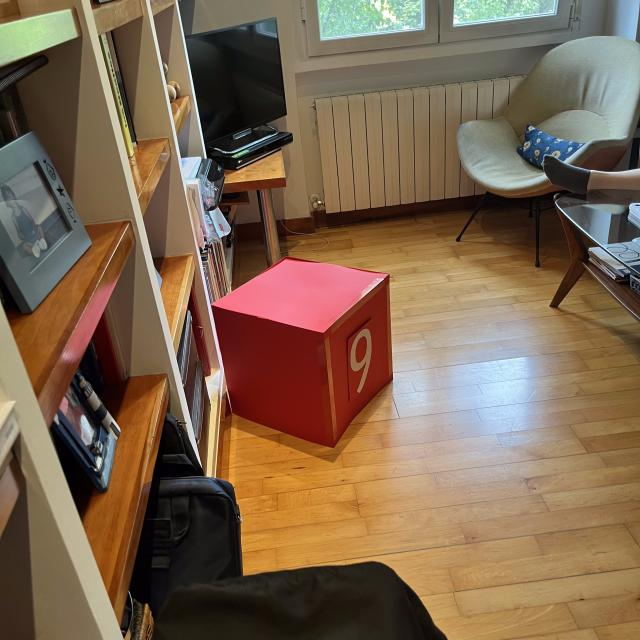box: (208, 252, 397, 448)
